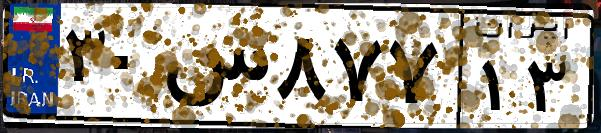0: (110, 28, 158, 98)
1: (475, 38, 525, 113)
3: (57, 26, 110, 100), (525, 38, 570, 115)
7: (385, 28, 445, 110), (330, 28, 385, 110)
8: (270, 28, 330, 110)
س: (158, 20, 270, 120)
